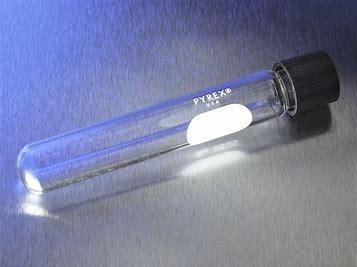Test tube: (12, 55, 338, 200)
